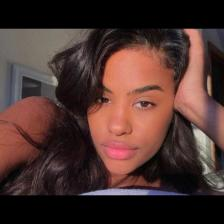Normal: (90, 55, 173, 169)
